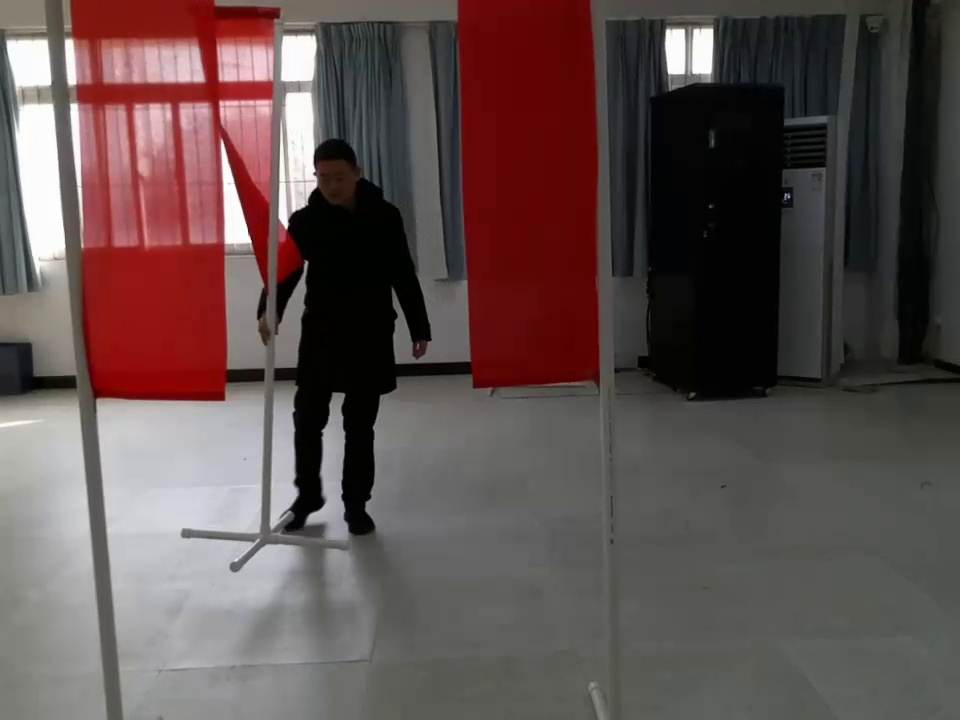qi: (44, 2, 229, 426), (453, 3, 616, 427)
